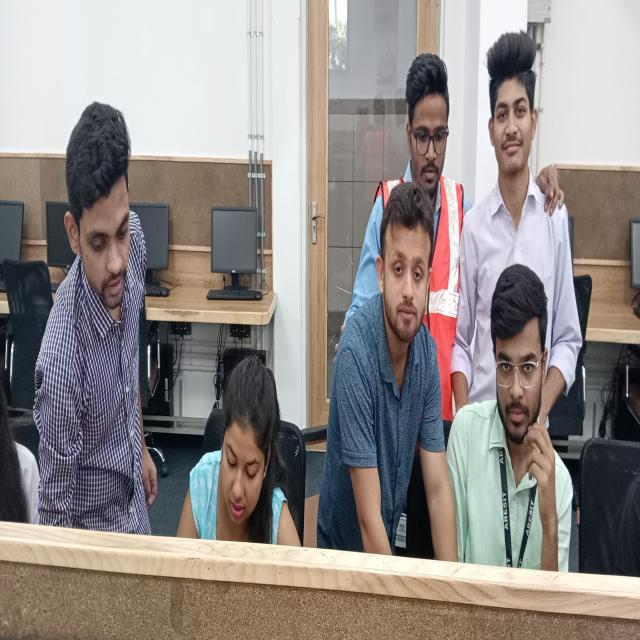unsafe: (34, 95, 155, 528), (319, 181, 448, 548), (451, 258, 582, 562), (176, 347, 307, 540)
